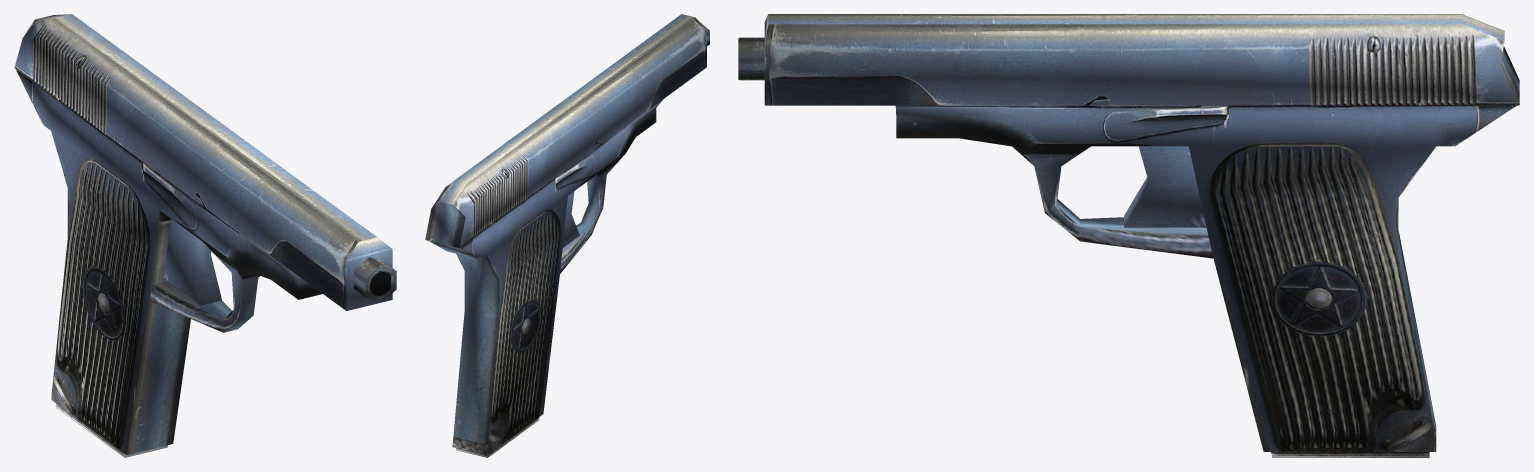
Rendered from pistol2.fbx.
The picture shows the model from 3 angles, left to right: view 1: azimuth 30°, elevation 25°; view 2: azimuth 150°, elevation 25°; view 3: azimuth 270°, elevation 25°; orthographic projection. The views are drawn at different scales.
Parts seen in each view (by area): view 1: Cube.003, Cube, Cube.002; view 2: Cube.003, Cube, Cube.002; view 3: Cube.003, Cube, Cube.002.
Boxes of the visible parts, x1,y1,x2,y2 form: Cube.003: (16,69,396,454); Cube: (14,14,392,310); Cube.002: (55,403,167,457); Cube.003: (429,23,709,455); Cube: (425,14,706,248); Cube.002: (456,417,539,457); Cube.003: (738,37,1516,451); Cube: (764,14,1519,105); Cube.002: (1271,452,1429,457).
Size of the model in its own units: 26.62 by 207 by 343.
